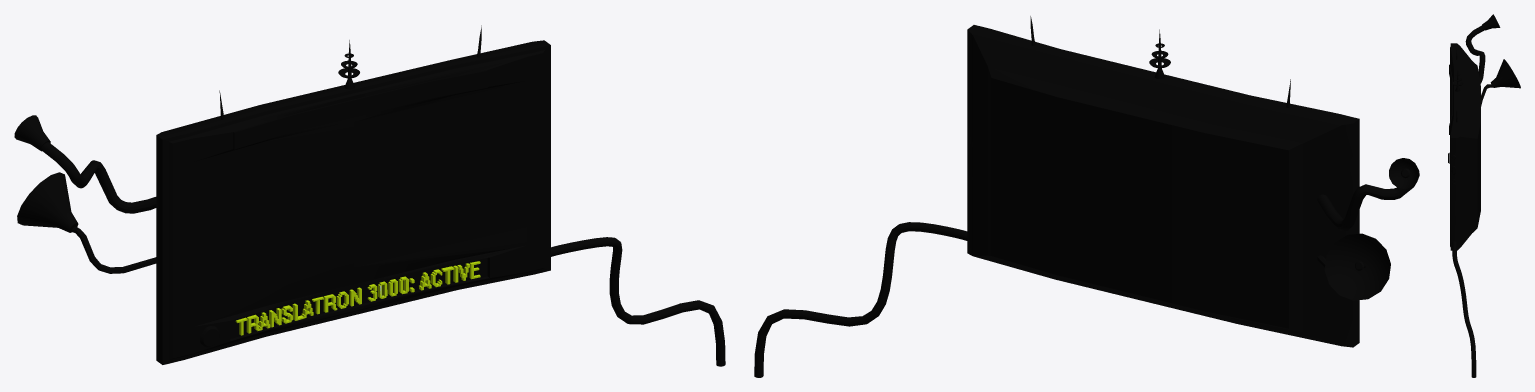
File: translator.fbx
3 views of the same model, side by side, from view 1: azimuth 30°, elevation 25°; view 2: azimuth 150°, elevation 25°; view 3: azimuth 270°, elevation 25° (orthographic). The views are drawn at different scales.
Visible parts, largest first — view 1: translator; view 2: translator; view 3: translator.
Part boxes in pixels (x1,y1,x2,y2): translator: [14, 25, 725, 366]; translator: [754, 16, 1419, 377]; translator: [1448, 14, 1520, 377].
Size of the model in its own units: 128 by 76.65 by 23.41.
